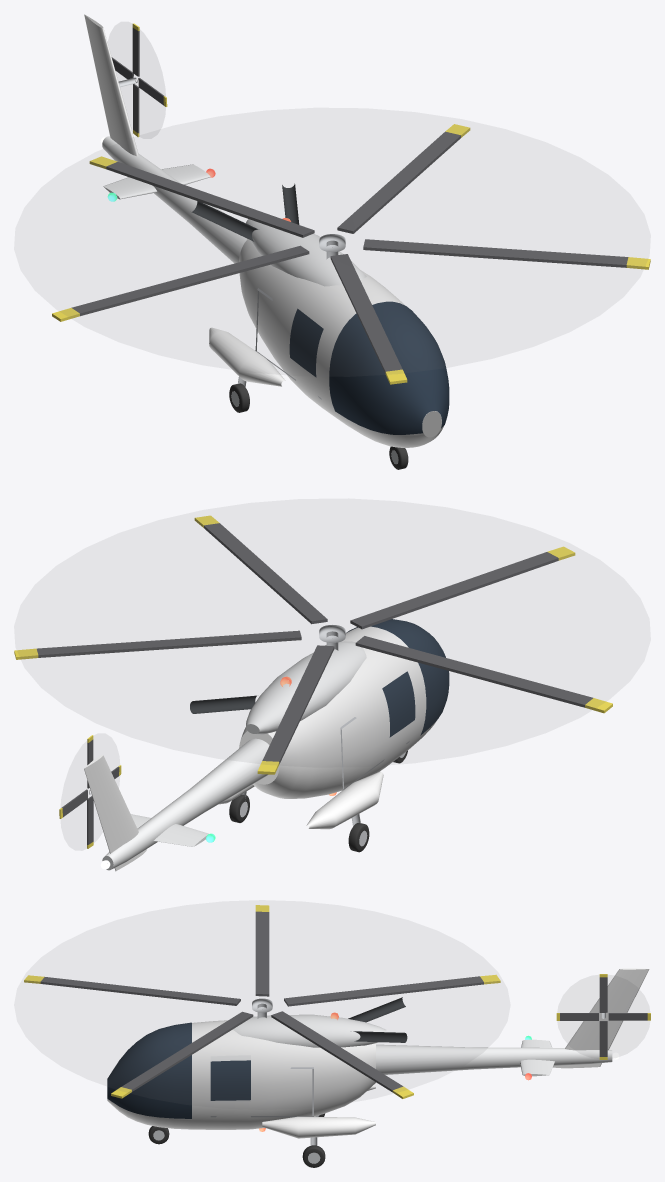
3 renders of one model, top to bottom at view 1: azimuth 30°, elevation 25°; view 2: azimuth 150°, elevation 25°; view 3: azimuth 270°, elevation 25°, orthographic. The views are drawn at different scales.
Parts seen in each view (by area): view 1: airframe, rotor, tail; view 2: airframe, rotor, tail; view 3: airframe, rotor, tail.
Part boxes in pixels (x1,y1,x2,y2): airframe: (84, 14, 449, 469); rotor: (52, 124, 650, 384); tail: (111, 23, 167, 137); airframe: (84, 619, 449, 871); rotor: (14, 515, 612, 774); tail: (59, 735, 121, 848); airframe: (107, 968, 649, 1167); rotor: (24, 905, 500, 1098); tail: (556, 974, 650, 1059).
Size of the model in its own units: 13.8 by 5.48 by 17.7.
